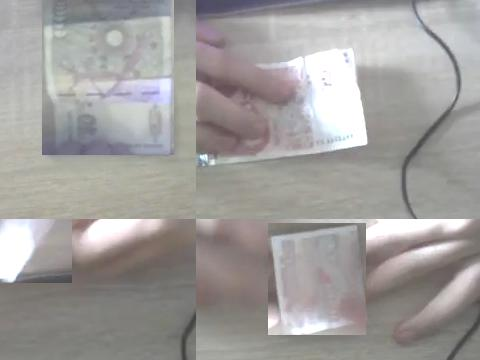10leva: (42, 0, 174, 155)
5leva: (268, 223, 366, 335)
